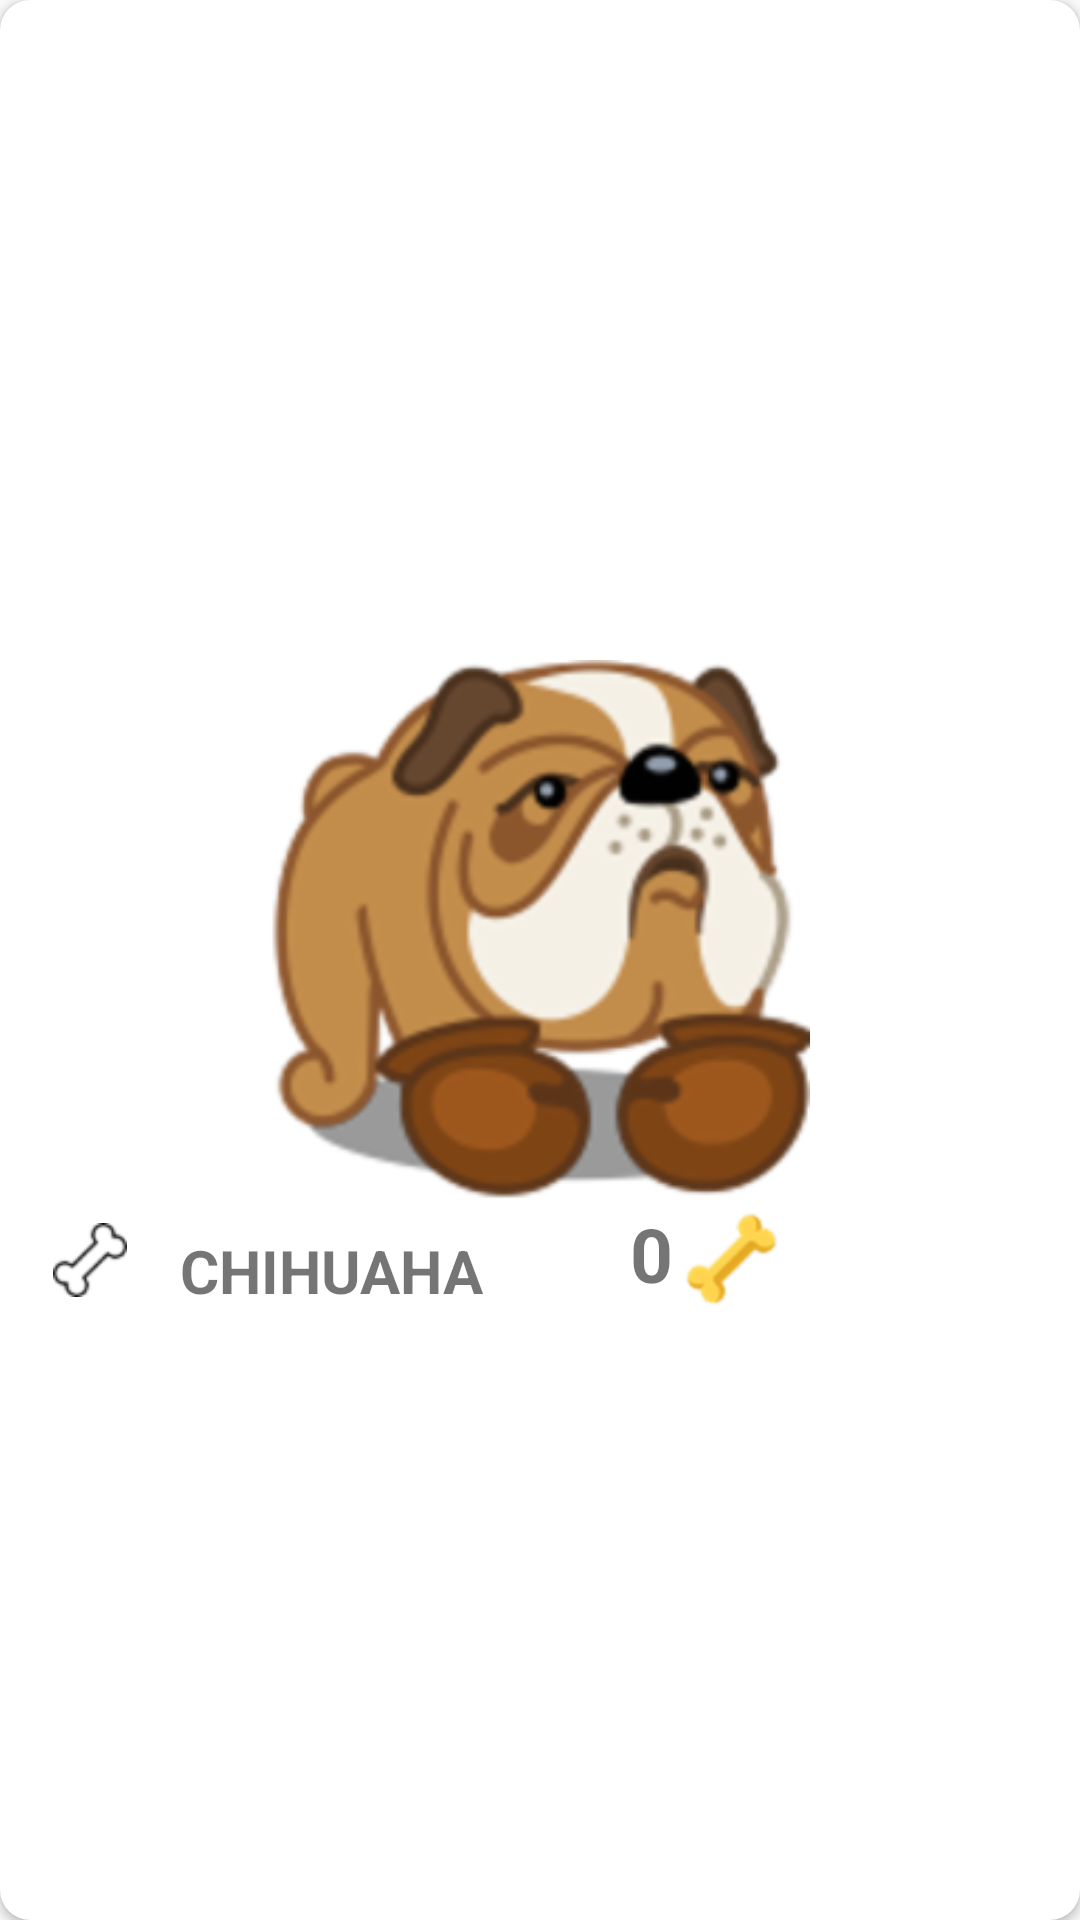

Named icons in this screenshot (1080×1920) and their bounding boxes, (x1, y1, x2, y2):
dog bone: (686, 1214, 776, 1304), (53, 1223, 127, 1297)
